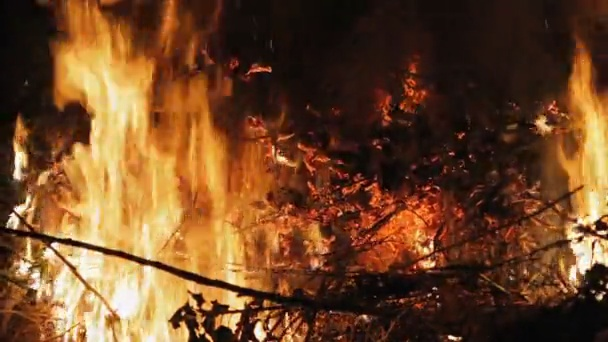fire: (49, 50, 234, 340), (566, 66, 607, 284), (245, 146, 322, 261), (386, 202, 437, 268), (10, 122, 30, 283)
